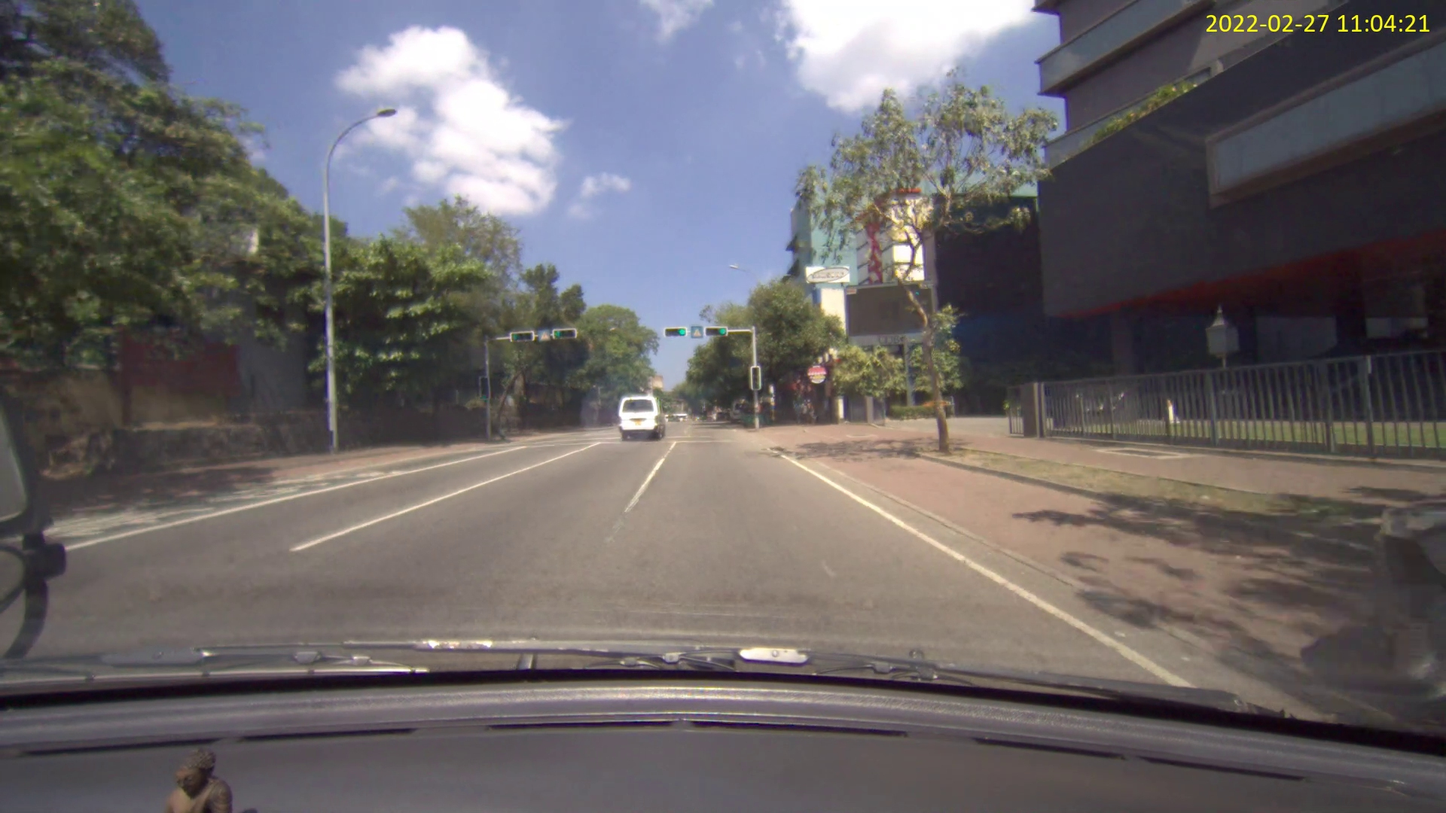green: (509, 329, 534, 342), (749, 365, 760, 390), (552, 327, 576, 338), (663, 326, 686, 337), (478, 376, 489, 398), (703, 326, 727, 336)
